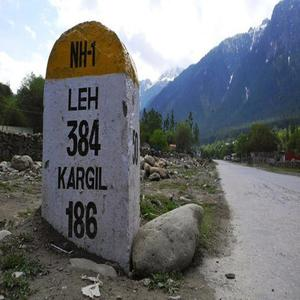kmstone: (41, 19, 144, 260)
